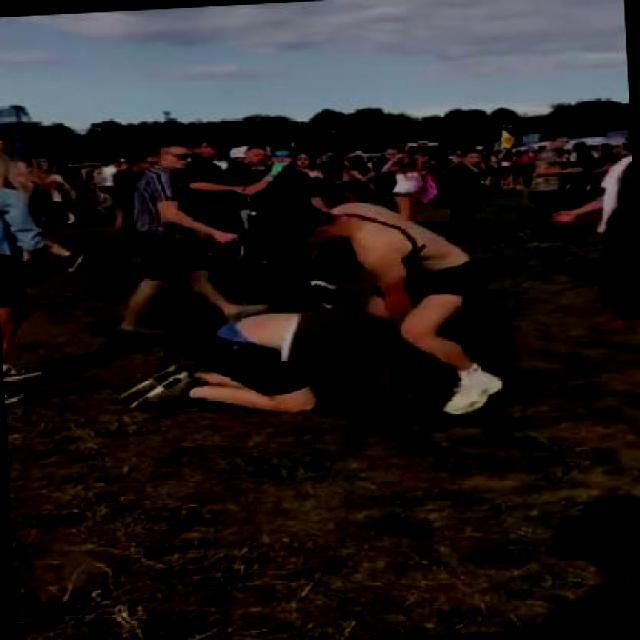fight: (141, 194, 502, 432)
